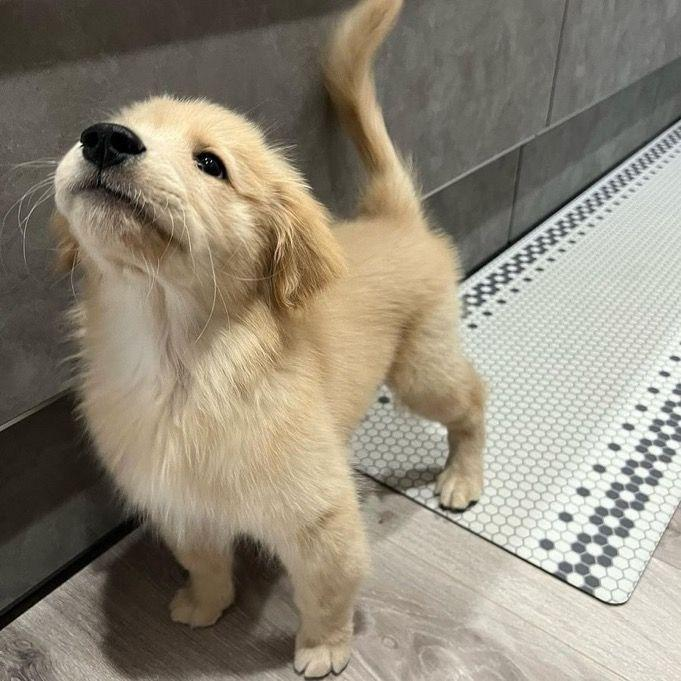puppy-dog: (50, 1, 494, 675)
